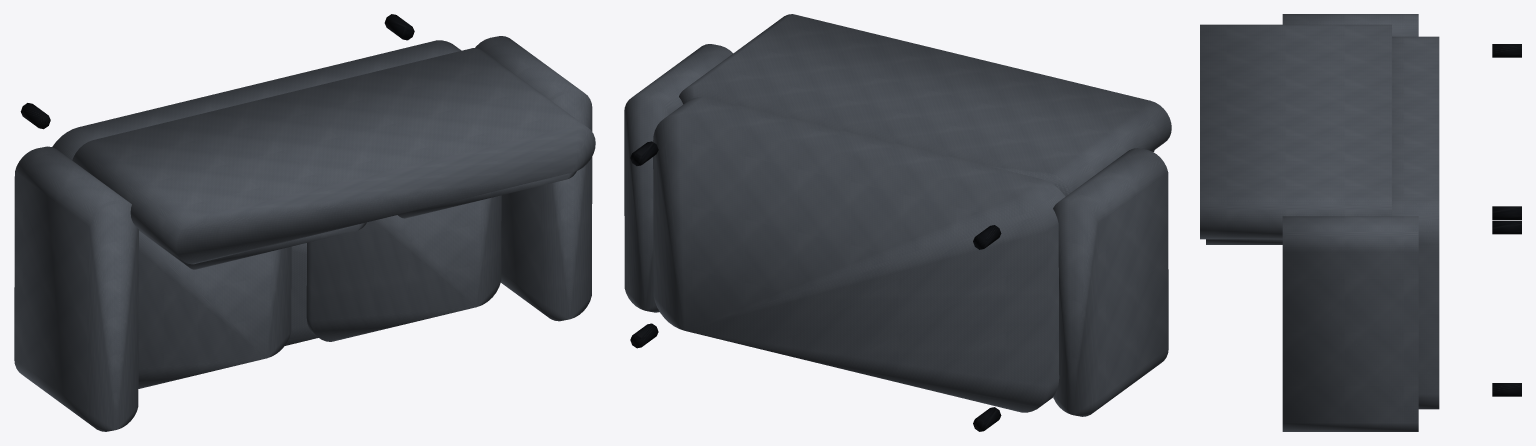
Rendered from SOFA_2SEAT_001.glb.
3 renders of one model, left to right at view 1: azimuth 30°, elevation 25°; view 2: azimuth 150°, elevation 25°; view 3: azimuth 270°, elevation 25°, orthographic. The views are drawn at different scales.
Parts seen in each view (by area): view 1: sofa_back_001, sofa_arm_002, seat_cushion_006, seat_cushion_004, sofa_arm_003, sofa_base_000, back_pillow_005, back_pillow_007; view 2: sofa_base_000, sofa_back_001, sofa_arm_002, sofa_arm_003; view 3: sofa_back_001, sofa_arm_003, sofa_base_000, sofa_arm_002, back_pillow_007, short_leg_008, short_leg_009, short_leg_010, short_leg_011.
Boxes of the visible parts, left/top/right/bottom form: sofa_back_001: left=72, top=48, right=595, bottom=264; sofa_arm_002: left=14, top=146, right=138, bottom=431; seat_cushion_006: left=306, top=195, right=501, bottom=341; seat_cushion_004: left=138, top=231, right=291, bottom=388; sofa_arm_003: left=475, top=36, right=592, bottom=321; sofa_base_000: left=52, top=40, right=461, bottom=345; back_pillow_005: left=139, top=222, right=366, bottom=269; back_pillow_007: left=398, top=171, right=576, bottom=218; sofa_base_000: left=653, top=97, right=1065, bottom=412; sofa_back_001: left=679, top=14, right=1171, bottom=196; sofa_arm_002: left=1053, top=148, right=1168, bottom=416; sofa_arm_003: left=624, top=44, right=732, bottom=312; sofa_back_001: left=1200, top=24, right=1391, bottom=239; sofa_arm_003: left=1282, top=216, right=1418, bottom=431; sofa_base_000: left=1392, top=36, right=1439, bottom=409; sofa_arm_002: left=1282, top=14, right=1418, bottom=36; back_pillow_007: left=1206, top=239, right=1282, bottom=244; short_leg_008: left=1492, top=220, right=1521, bottom=234; short_leg_009: left=1492, top=44, right=1521, bottom=57; short_leg_010: left=1492, top=383, right=1521, bottom=396; short_leg_011: left=1492, top=206, right=1521, bottom=219.
Bounding box in the file's own units: 1.8 × 0.82 × 1.09.
Materials: 2 (2 with a texture image).
